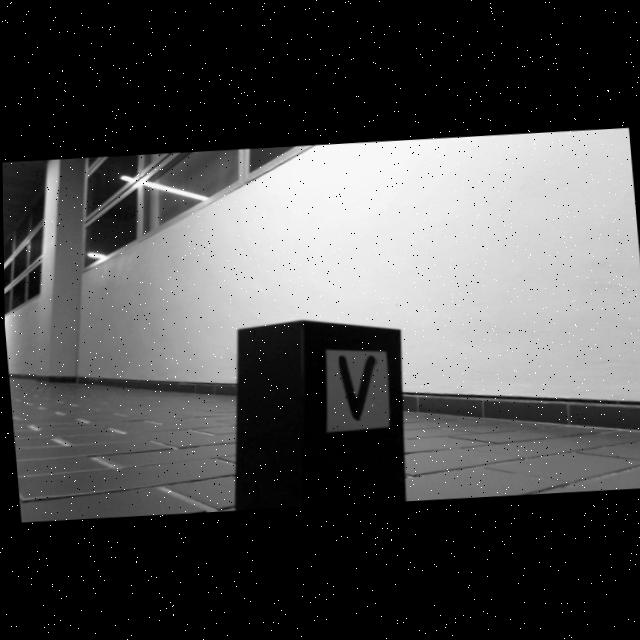V: (338, 354, 375, 417)
